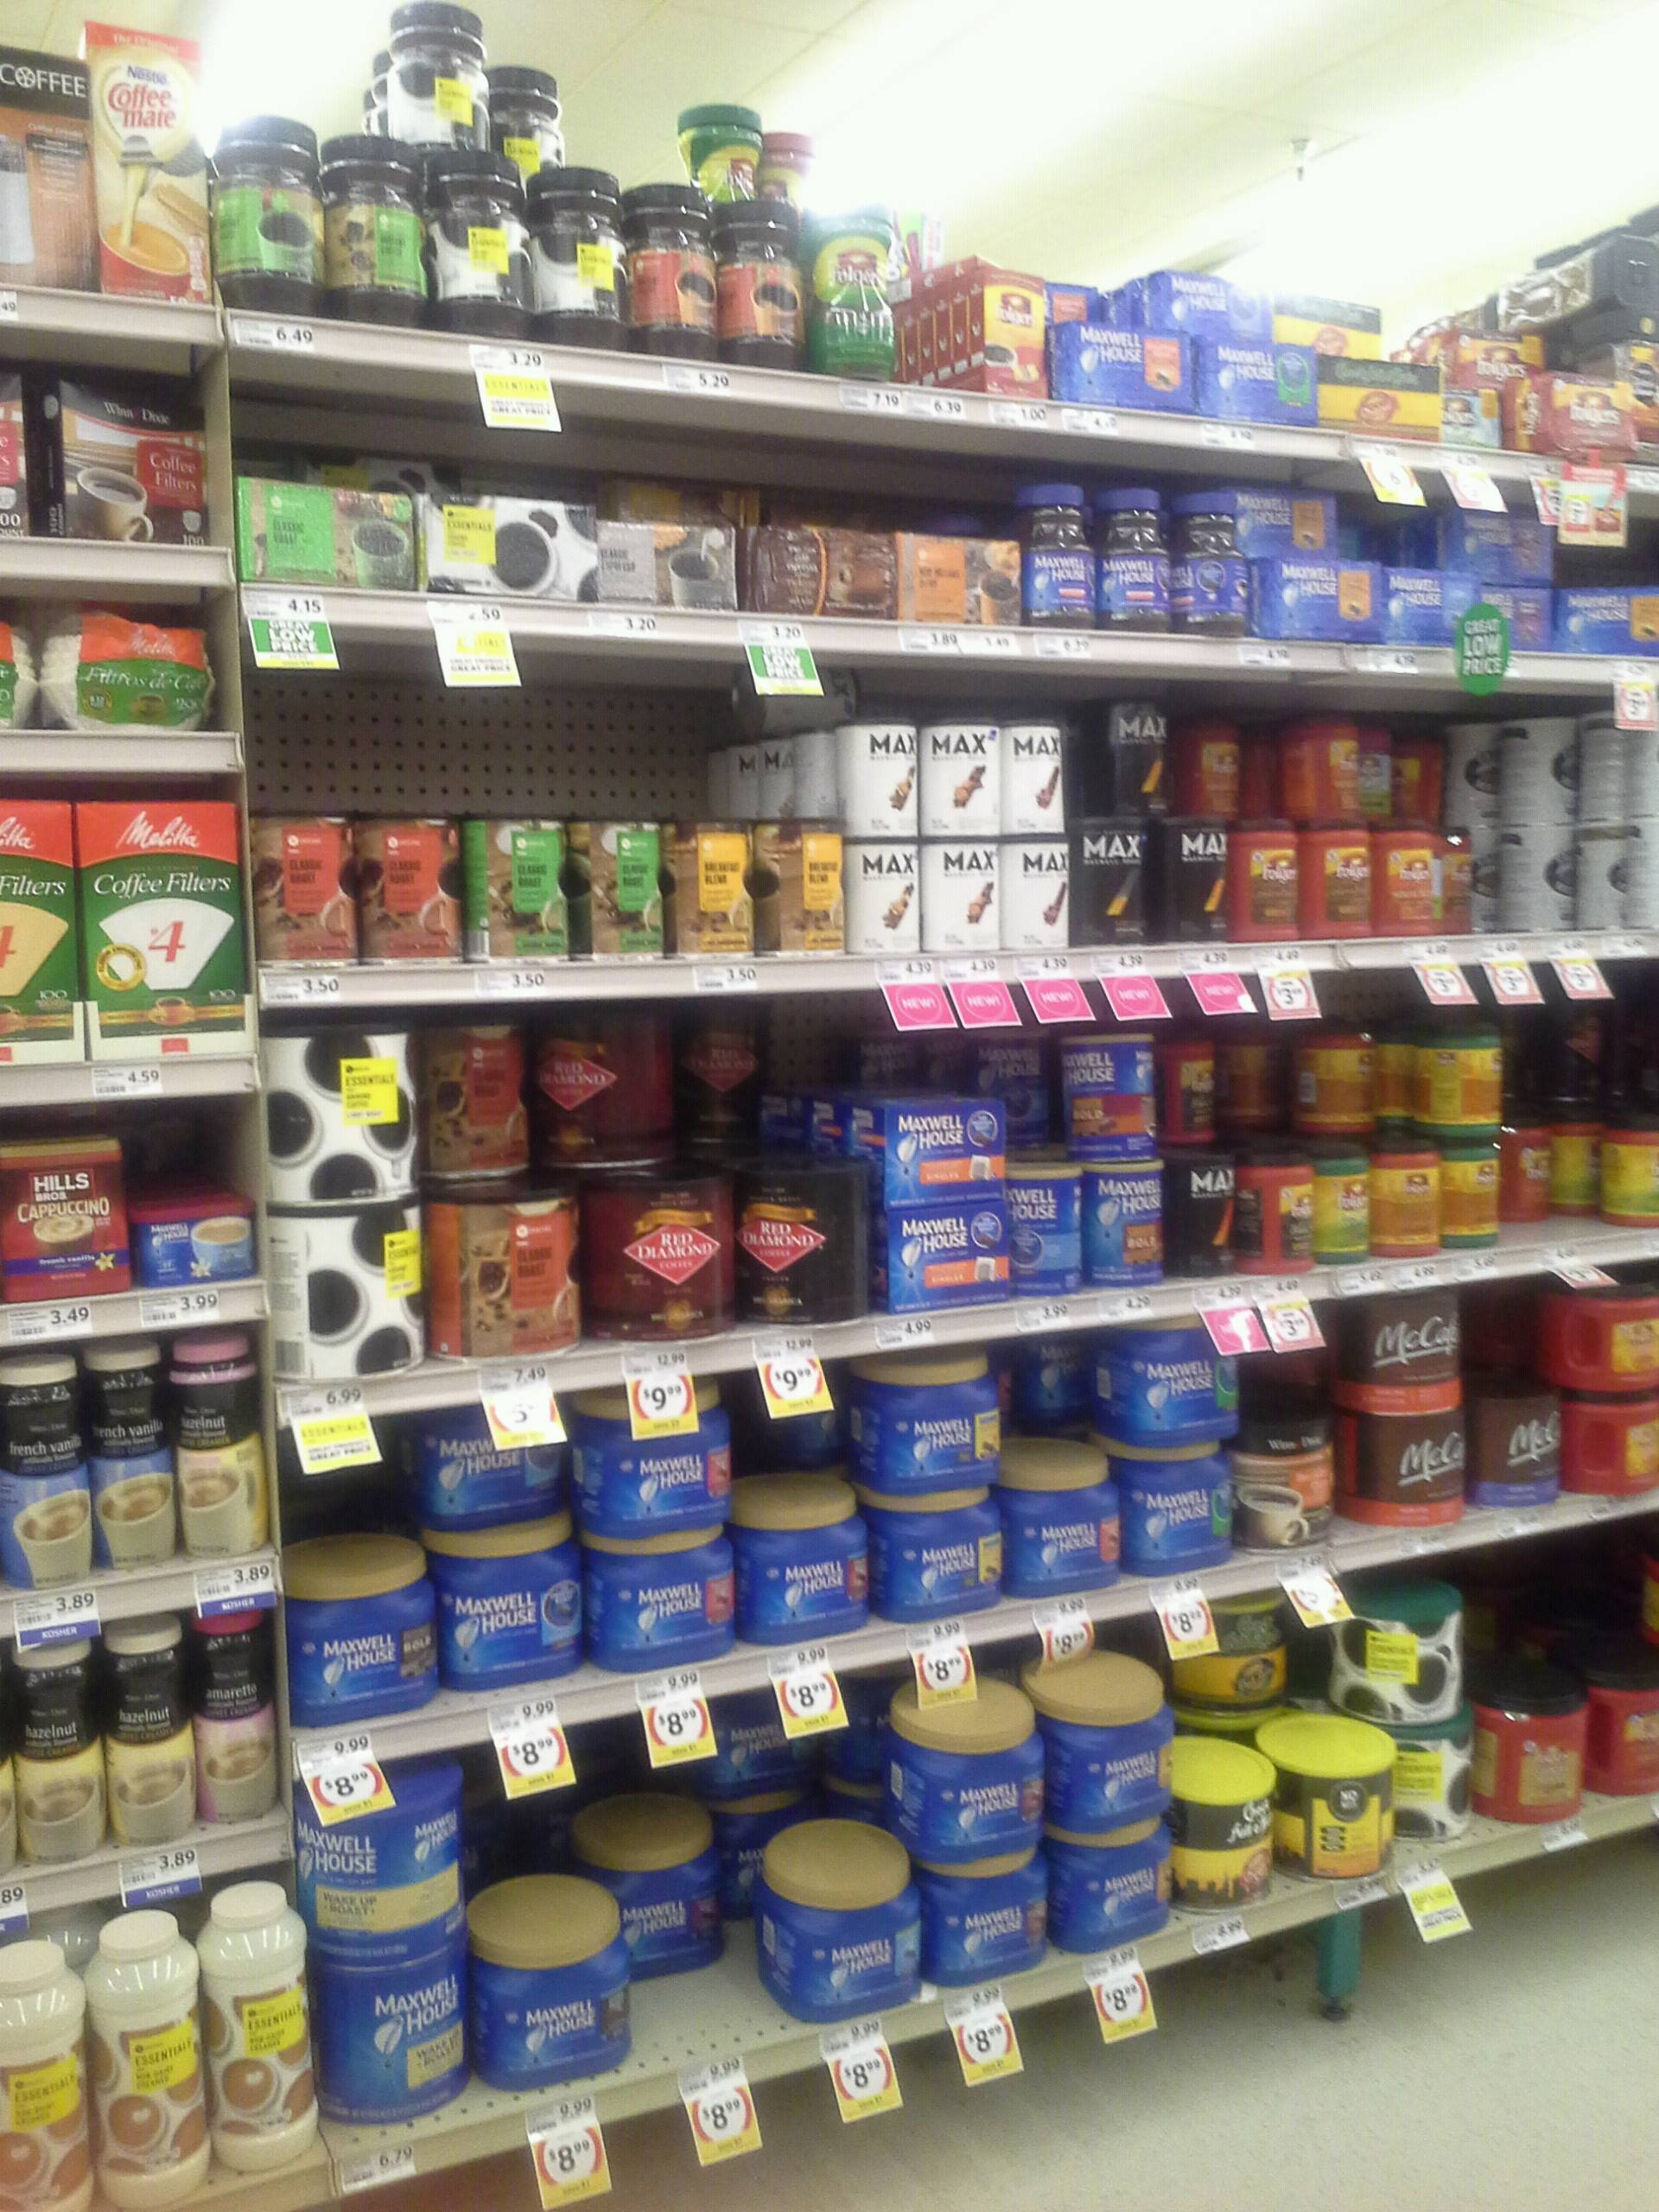Misplacement: (423, 1000, 863, 1369), (681, 1686, 929, 2034), (1159, 1581, 1398, 1912), (568, 1728, 756, 2095), (723, 1359, 880, 1656), (1006, 1331, 1124, 1602), (1504, 1001, 1612, 1264)
